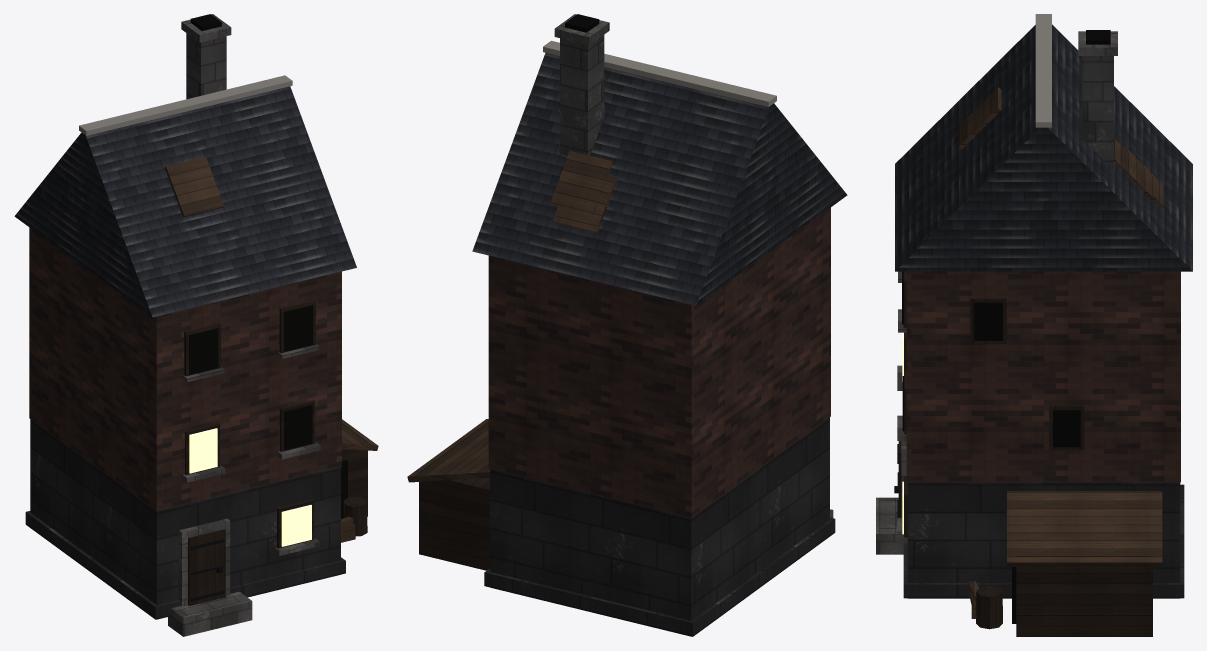
File: CasaS14.gltf
The picture shows the model from 3 angles, left to right: view 1: azimuth 30°, elevation 25°; view 2: azimuth 150°, elevation 25°; view 3: azimuth 270°, elevation 25°; orthographic projection. The views are drawn at different scales.
Visible parts, largest first — view 1: CasaS14; view 2: CasaS14; view 3: CasaS14.
Part boxes in pixels (x1,y1,x2,y2): CasaS14: [14, 14, 378, 636]; CasaS14: [407, 14, 847, 636]; CasaS14: [876, 14, 1192, 636].
Size of the model in its own units: 7.91 by 13.83 by 7.23.
Materials: 11 (7 with a texture image).
